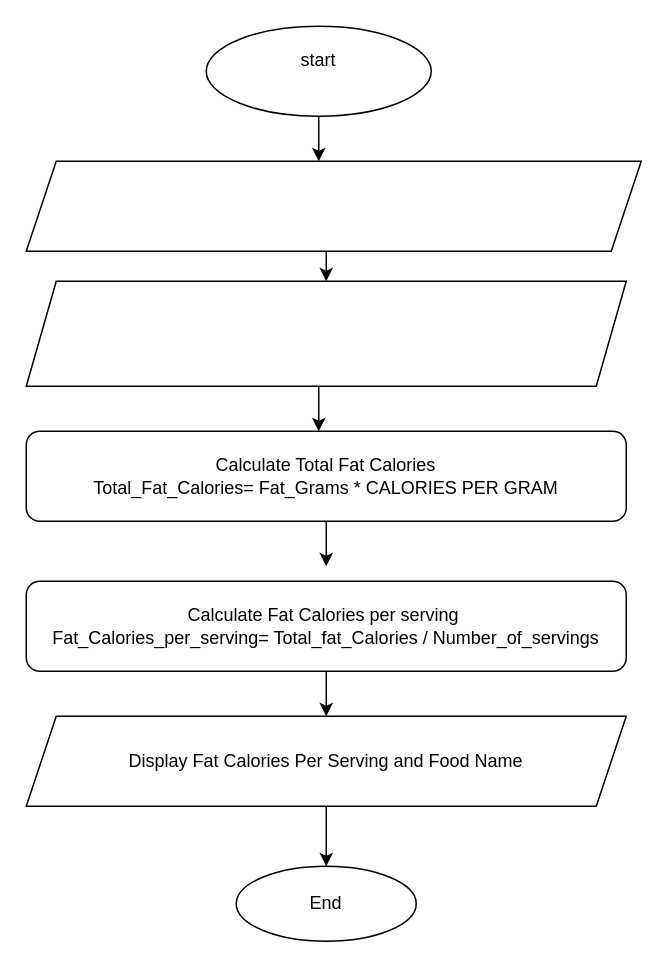
This 668x968 diagram has some shape labels left out. Here are the shapes that lost their labels. From the top down, the centre of each, then its label:
At [333,205]: "Declare constant CALORIES_PER_GRAM =9".
At [325,333]: "Input Food_Name Input Fat_Grams Input Number_of_servings".
